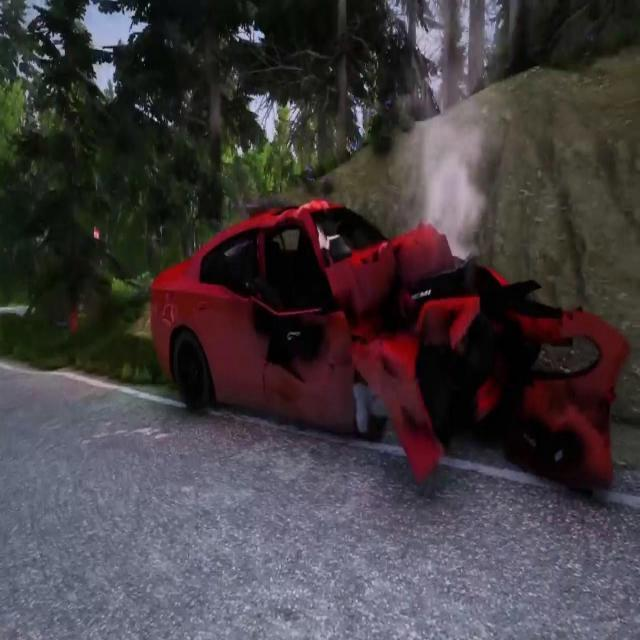single accident: (119, 141, 640, 521)
